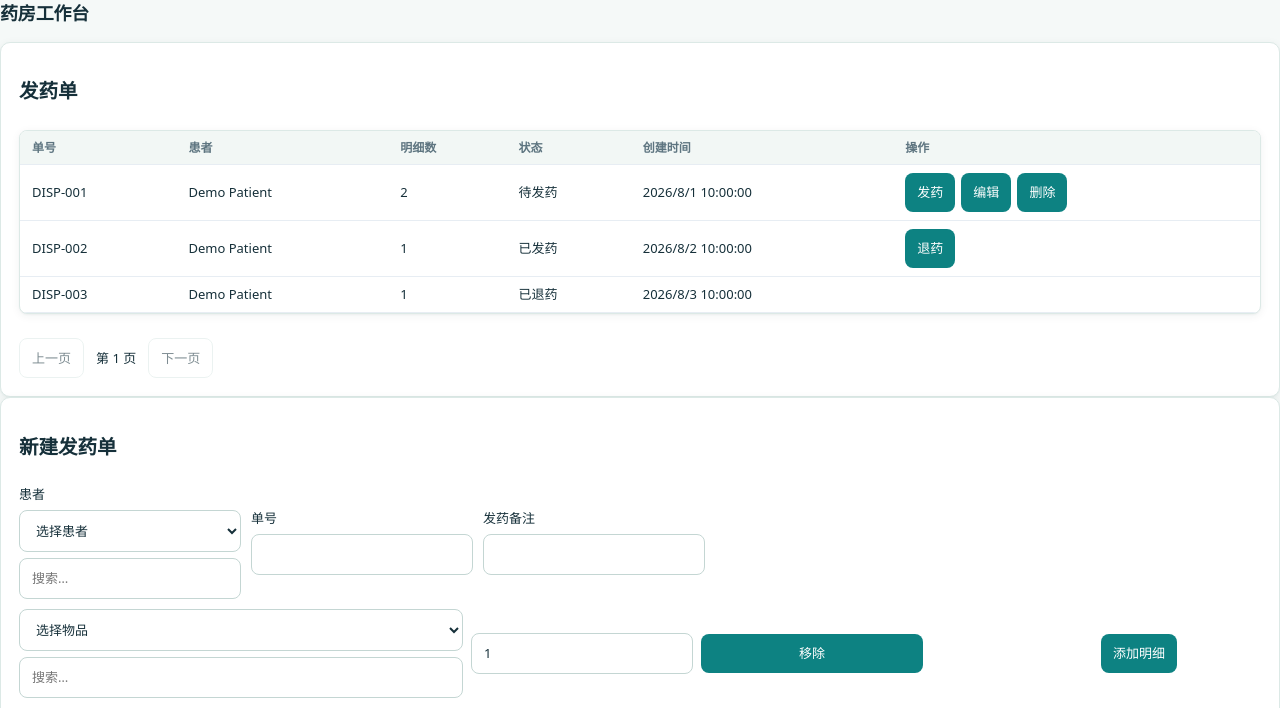
Test case: DispenseWorkbenchPage › edits a PENDING dispense: dialog prefills from detail and PATCHes /dispenses/disp-1
Expected: the text "DISP-001" is shown, top-left (20, 165), bottom-right (176, 220)
Click the button "编辑": (986, 192) top-left (961, 173), bottom-right (1011, 212)
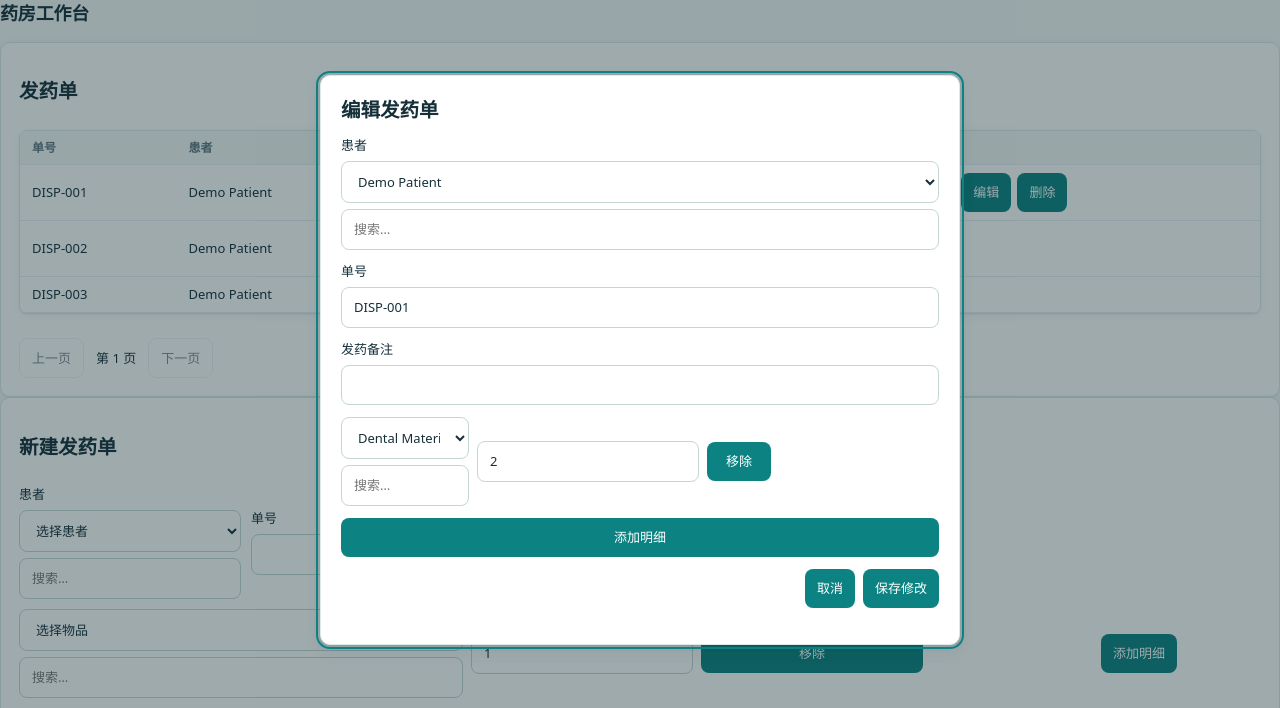
Now the field named "编辑单号" holds "DISP-001", box top-left (341, 287), bottom-right (939, 328)
Now the dropdown named "编辑患者" shows "Demo Patient", box top-left (341, 161), bottom-right (939, 203)
Now the field named "编辑发药备注" is empty, box top-left (341, 364), bottom-right (939, 405)
Replace the text in the number field named "编辑发药数量" with "3": (588, 462) top-left (477, 441), bottom-right (699, 482)
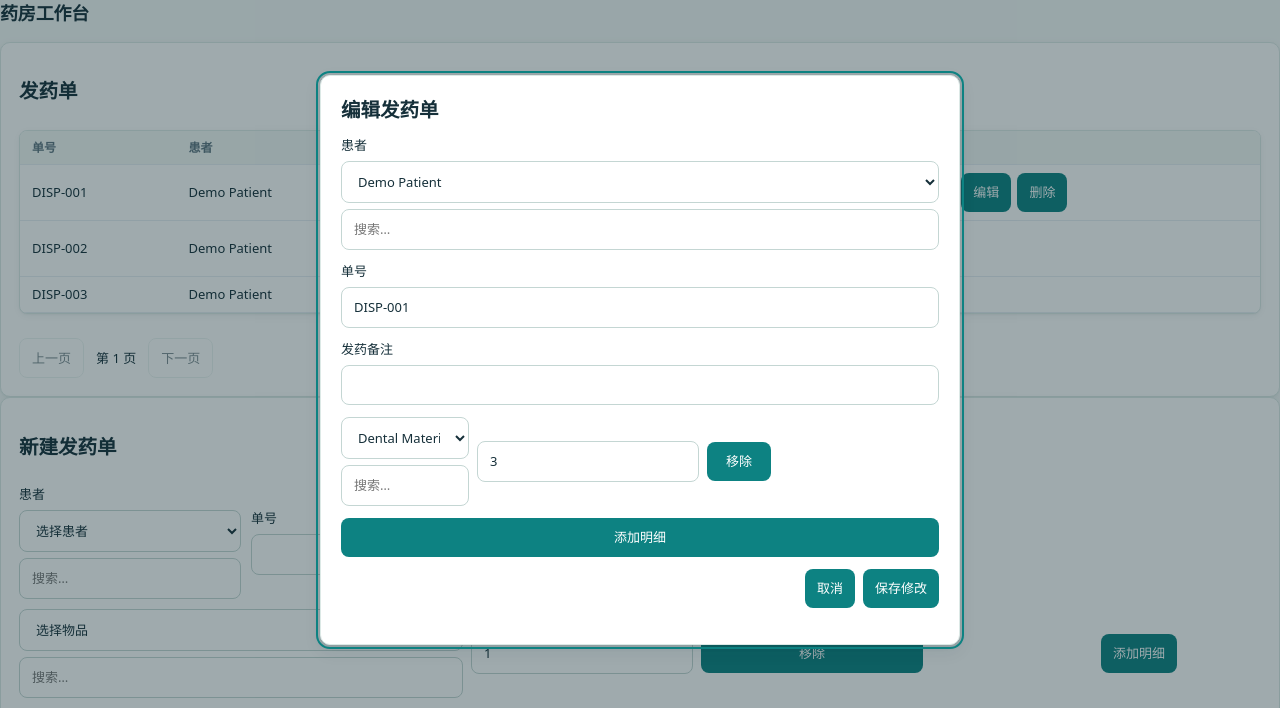
In the field named "编辑发药备注": (640, 385) top-left (341, 364), bottom-right (939, 405), type "新备注"
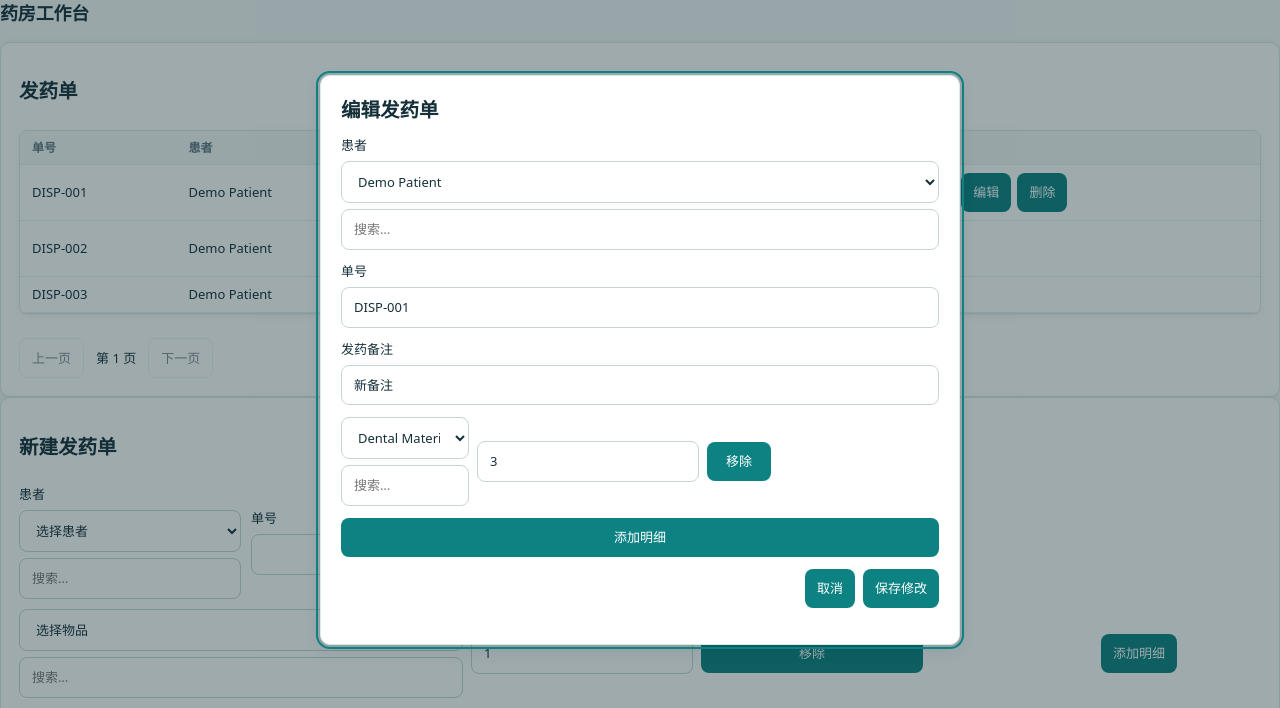
Click the button "保存修改": (901, 588) top-left (863, 569), bottom-right (939, 608)
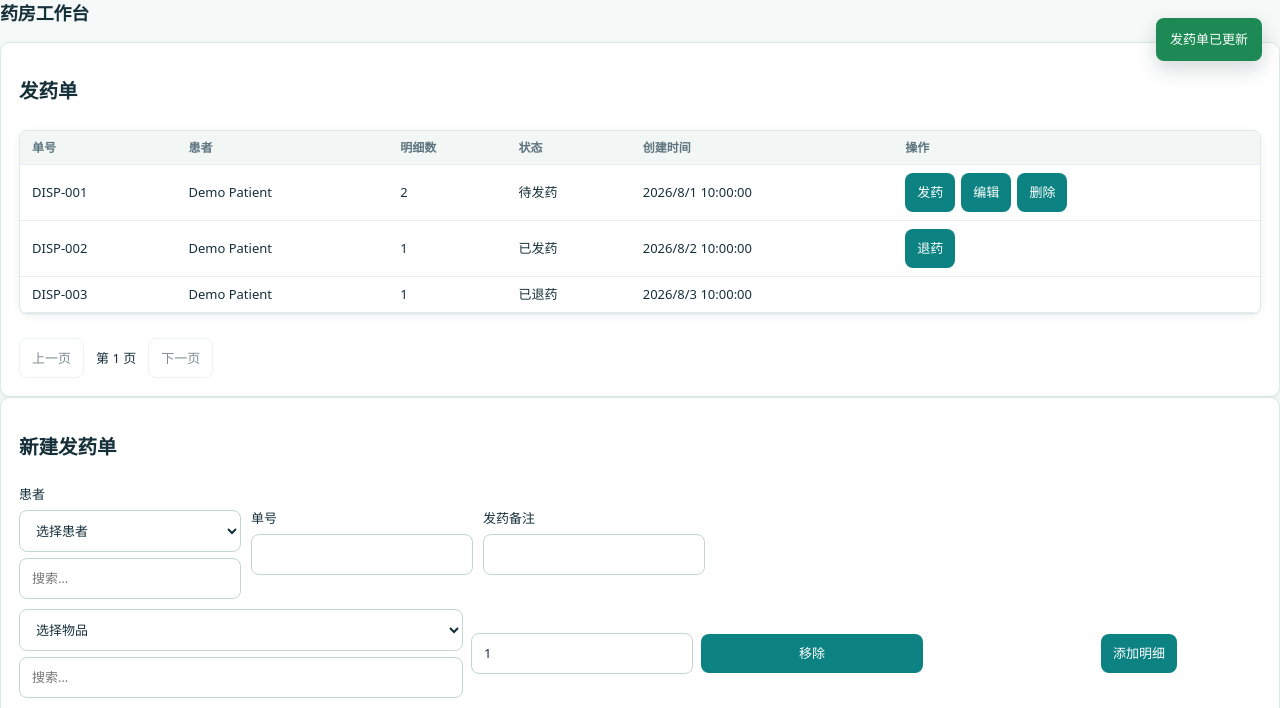
Now the text "发药单已更新" is shown, box top-left (1156, 18), bottom-right (1262, 61)
